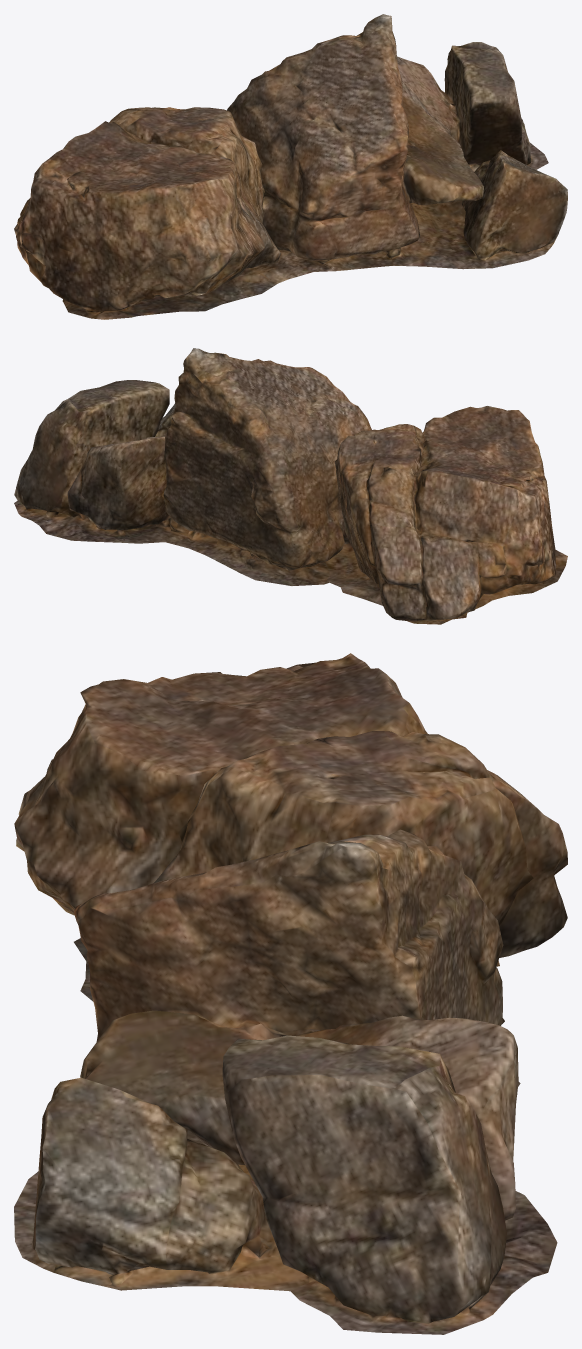
The model's file is namaqualand_boulder_02.glb.
3 views of the same model, one above another, from view 1: azimuth 30°, elevation 25°; view 2: azimuth 150°, elevation 25°; view 3: azimuth 270°, elevation 25° (orthographic). The views are drawn at different scales.
Parts seen in each view (by area): view 1: boulder_02; view 2: boulder_02; view 3: boulder_02.
Boxes of the visible parts, box(x1,y1,x2,y2) form: boulder_02: box(14, 14, 567, 319); boulder_02: box(14, 348, 567, 624); boulder_02: box(14, 653, 567, 1334).
Size of the model in its own units: 2.52 by 0.878 by 1.23.
1 material, 1 textured.
